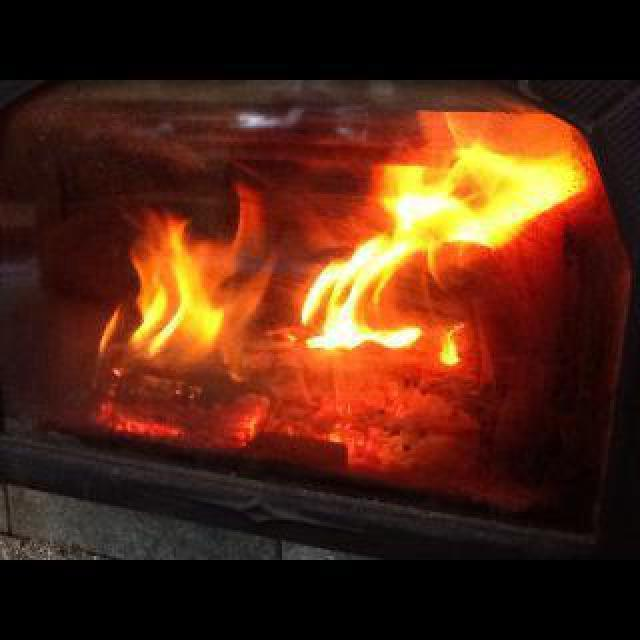Fire: (56, 112, 600, 438)
